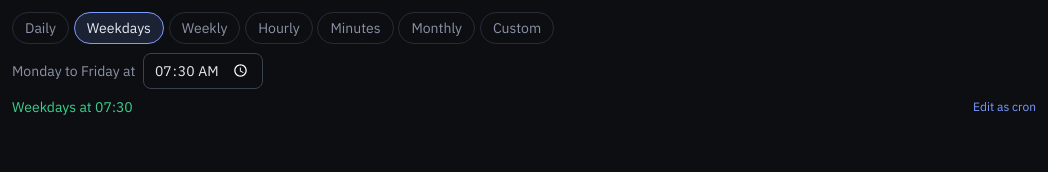
Scenario: the schedule picker › writes the line from the choices, keeping the time across kinds
The width and height of the screenshot is (1048, 172).
Click the button "Weekly" at (205, 28), box [169,12,240,44]
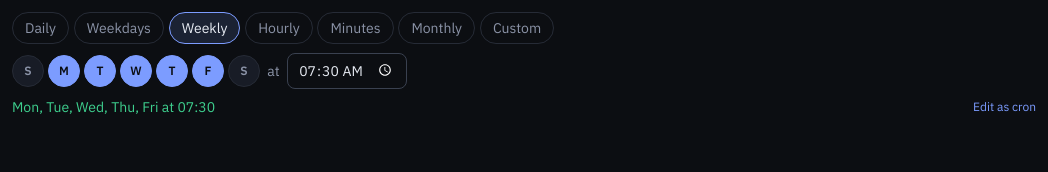
Click the button named "Saturday" at (244, 71), box [228,55,260,87]
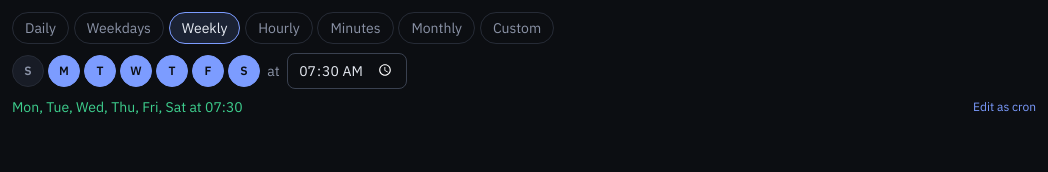
Replace the text in the time field named "Time" with "18:00" at (347, 71), box [287,53,407,89]
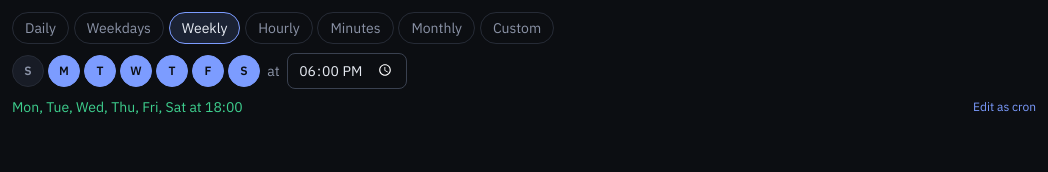
Click the button "Hourly" at (279, 28), box [245,12,313,44]
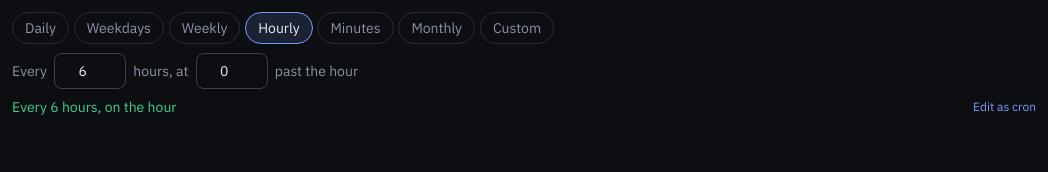
Replace the text in the number field named "Hours" with "2" at (90, 71), box [54,53,126,89]
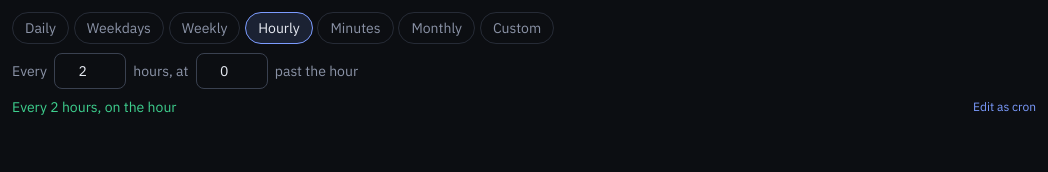
Now the text "Every 2 hours, on the hour" is shown, box [12,98,176,118]
